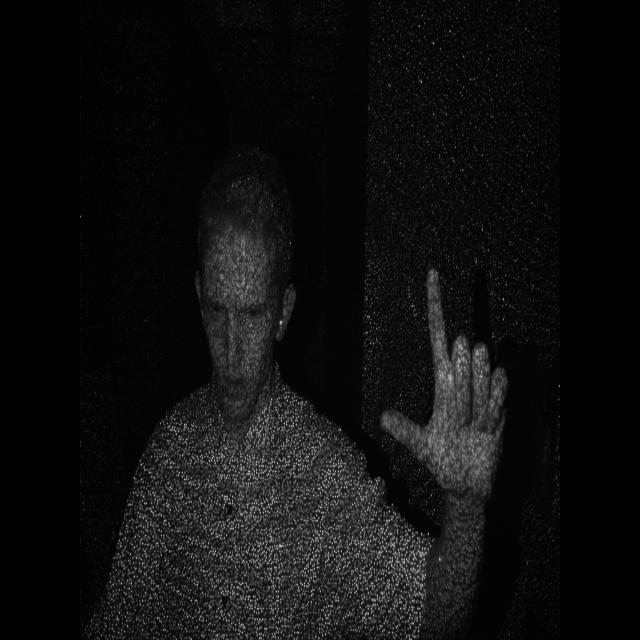L: (368, 243, 510, 522)
